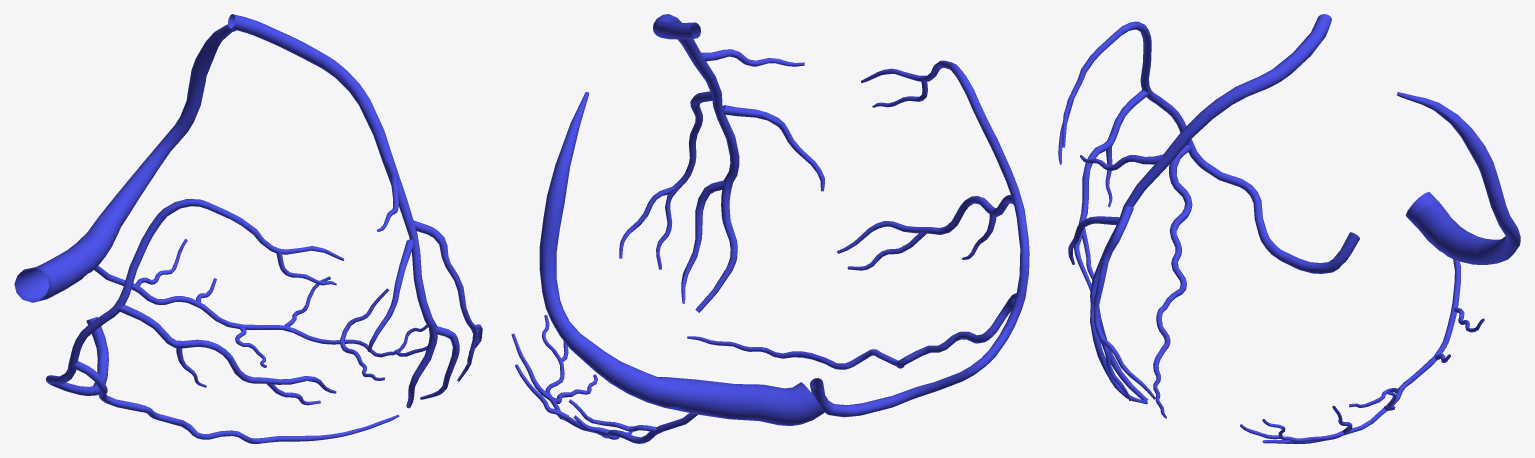
File: blueminor.gltf
3 renders of one model, left to right at view 1: azimuth 30°, elevation 25°; view 2: azimuth 150°, elevation 25°; view 3: azimuth 270°, elevation 25°, orthographic. The views are drawn at different scales.
Parts seen in each view (by area): view 1: c1.071; view 2: c1.071; view 3: c1.071.
Part boxes in pixels (<box>): c1.071: <box>14,14,482,443</box>; c1.071: <box>511,14,1029,443</box>; c1.071: <box>1058,14,1520,443</box>.
Bounding box in the file's own units: 3 × 2.71 × 3.03.
